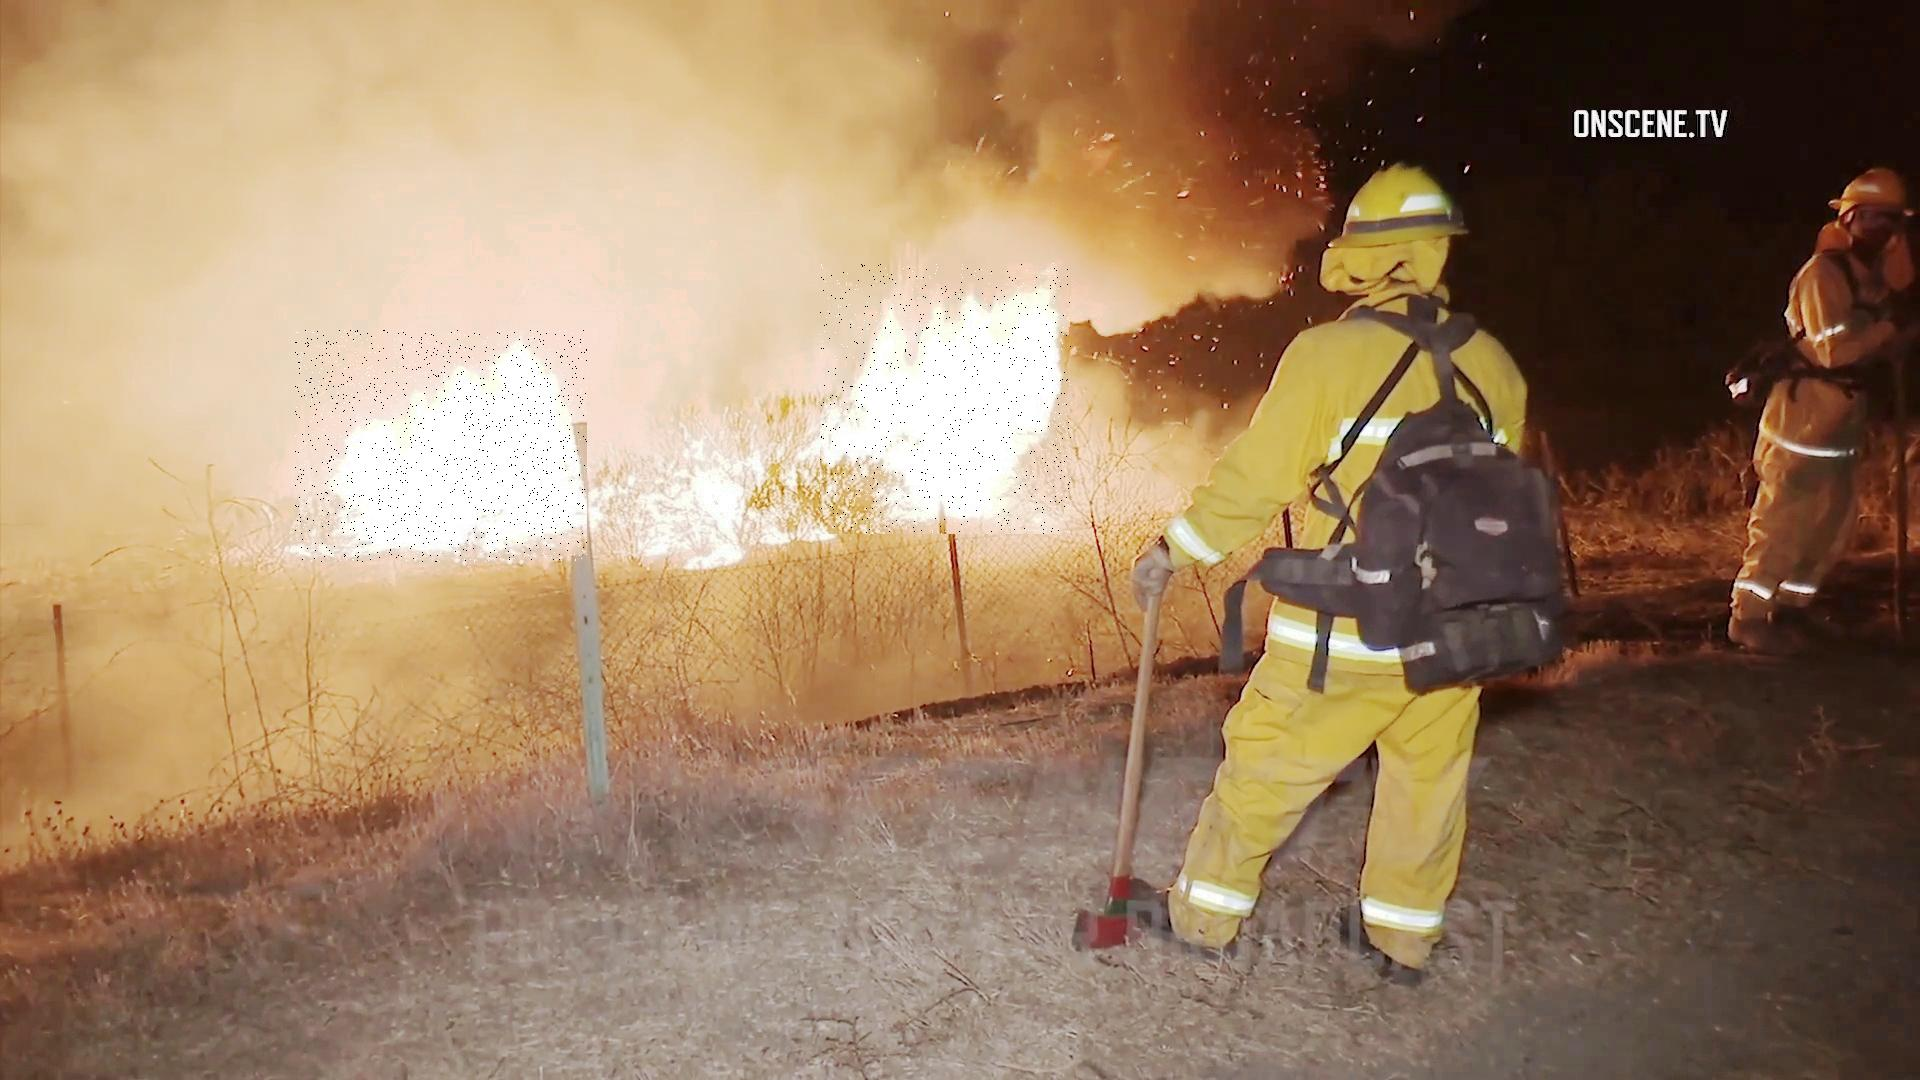fire: (820, 264, 1071, 534), (295, 331, 587, 563)
